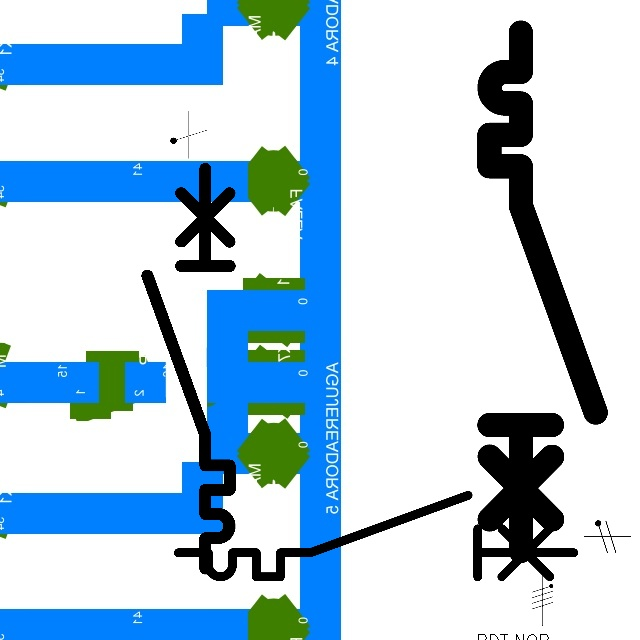interruptor_termomagnetico: (476, 19, 609, 564), (137, 158, 240, 579), (168, 485, 584, 587)
